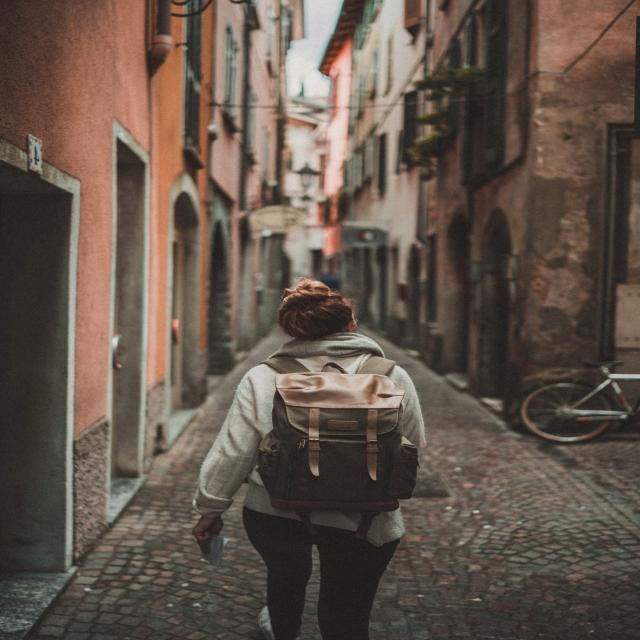adult: (191, 288, 425, 640)
